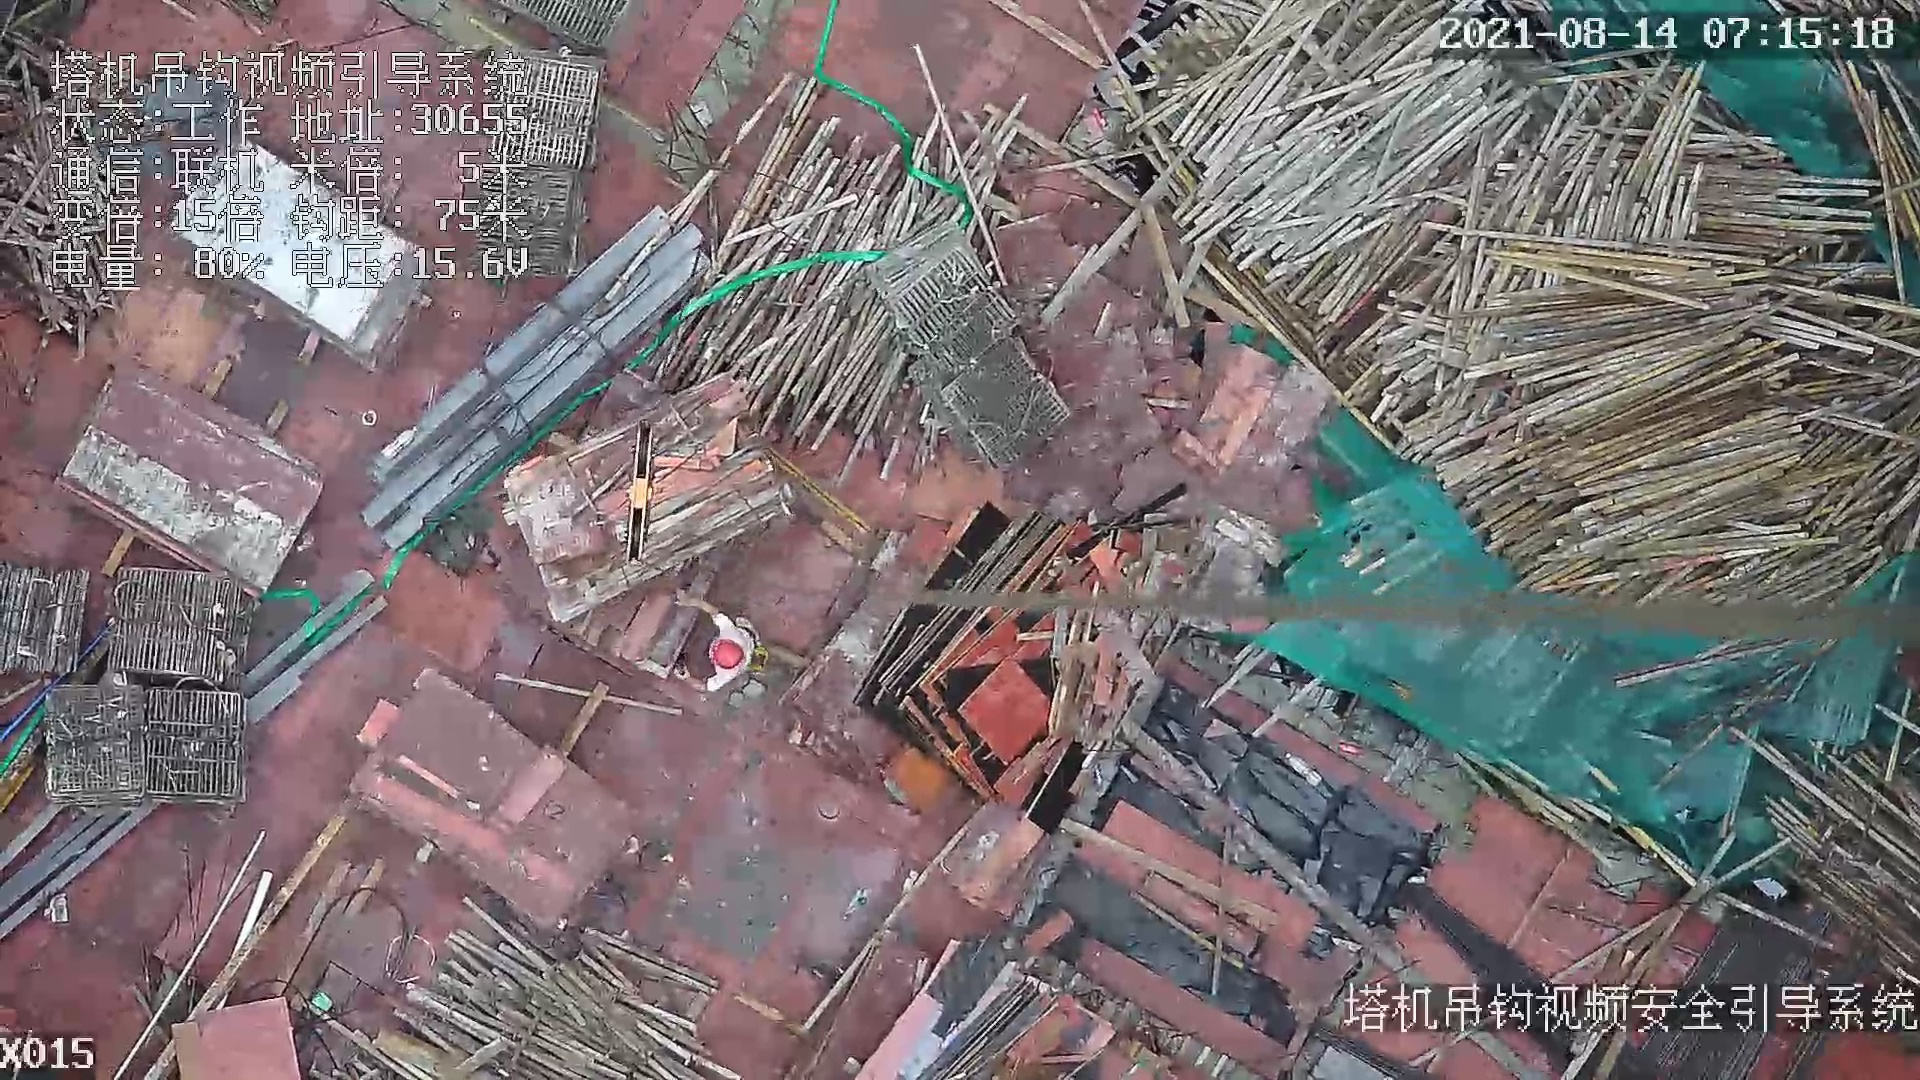helmet: (711, 641, 748, 672)
hook: (613, 419, 662, 568)
person: (662, 586, 758, 691)
